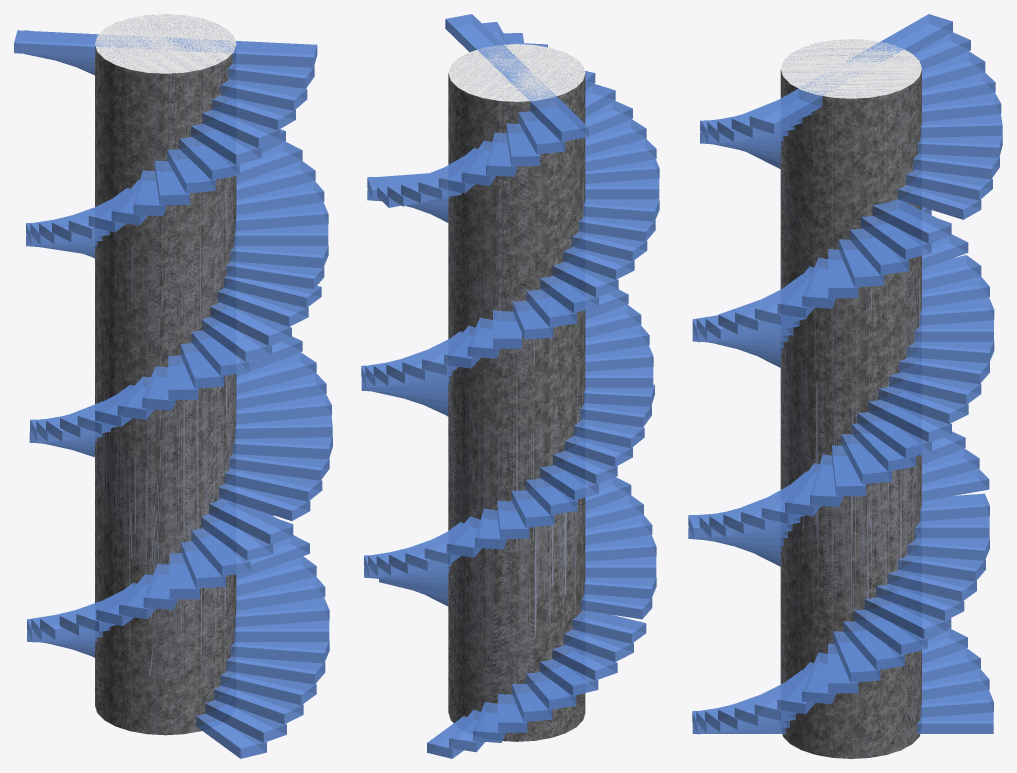
Rendered from spiral.dae.
3 renders of one model, left to right at view 1: azimuth 30°, elevation 25°; view 2: azimuth 150°, elevation 25°; view 3: azimuth 270°, elevation 25°, orthographic. The views are drawn at different scales.
Visible parts, largest first — view 1: Component_2 (×60), SketchUp (×2); view 2: Component_2 (×60), SketchUp (×2); view 3: Component_2 (×60), SketchUp (×2).
Boxes of the visible parts, x1=… form: Component_2 (×60): x1=14, y1=30, x2=332, y2=758; SketchUp (×2): x1=95, y1=14, x2=236, y2=735; Component_2 (×60): x1=361, y1=14, x2=659, y2=758; SketchUp (×2): x1=448, y1=44, x2=585, y2=741; Component_2 (×60): x1=688, y1=14, x2=1002, y2=734; SketchUp (×2): x1=780, y1=39, x2=921, y2=758.
Bounding box in the file's own units: 262 × 267 × 619.
Materials: 4 (1 with a texture image).
